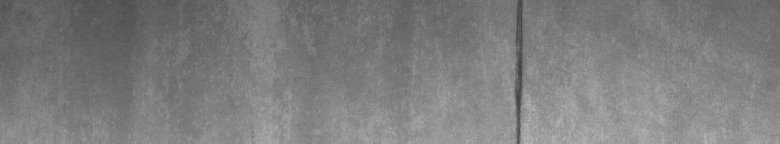hd: (508, 4, 529, 136)
